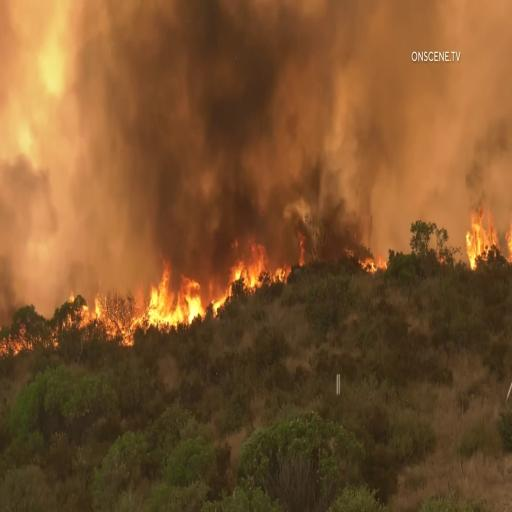fire: (146, 252, 200, 340), (464, 194, 494, 268), (236, 242, 268, 292)
smoke: (192, 6, 330, 225), (110, 2, 223, 245)
